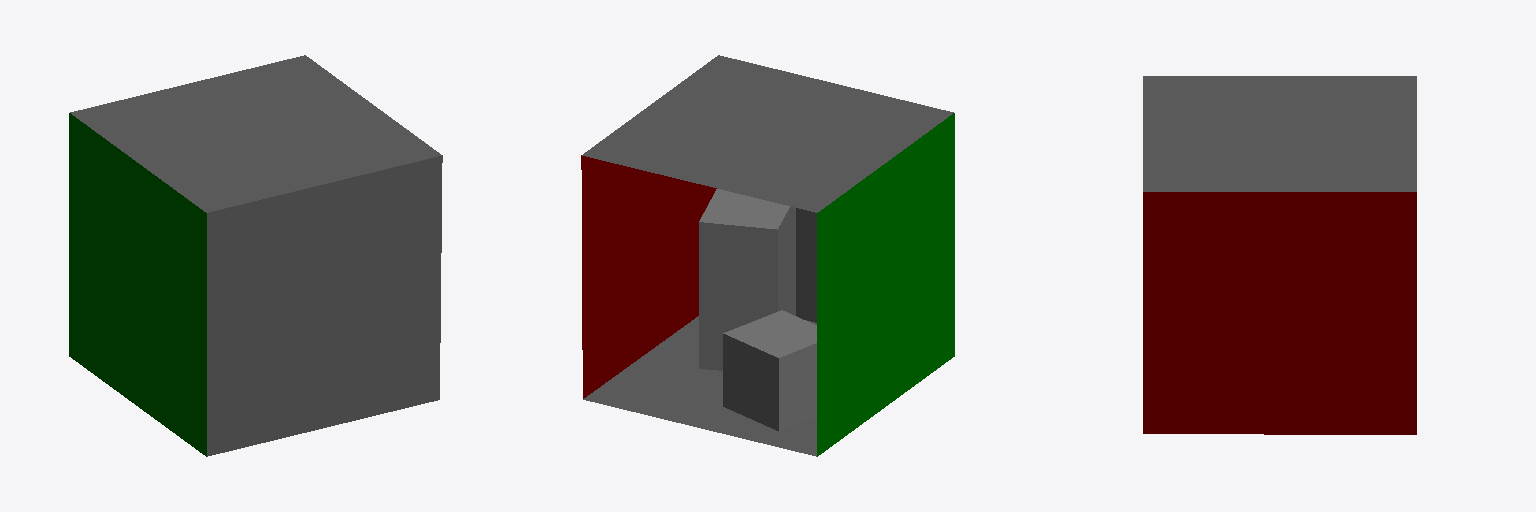
File: Cycles.obj
The picture shows the model from 3 angles: view 1: azimuth 30°, elevation 25°; view 2: azimuth 150°, elevation 25°; view 3: azimuth 270°, elevation 25°; orthographic projection.
Parts seen in each view (by area): view 1: cornell_box; view 2: cornell_box, large_box, small_box; view 3: cornell_box.
Boxes of the visible parts, x1,y1,x2,y2 form: cornell_box: [69, 55, 442, 456]; cornell_box: [581, 55, 954, 456]; large_box: [699, 189, 795, 370]; small_box: [723, 310, 816, 430]; cornell_box: [1143, 76, 1416, 434].
Size of the model in its own units: 556 by 549 by 559.